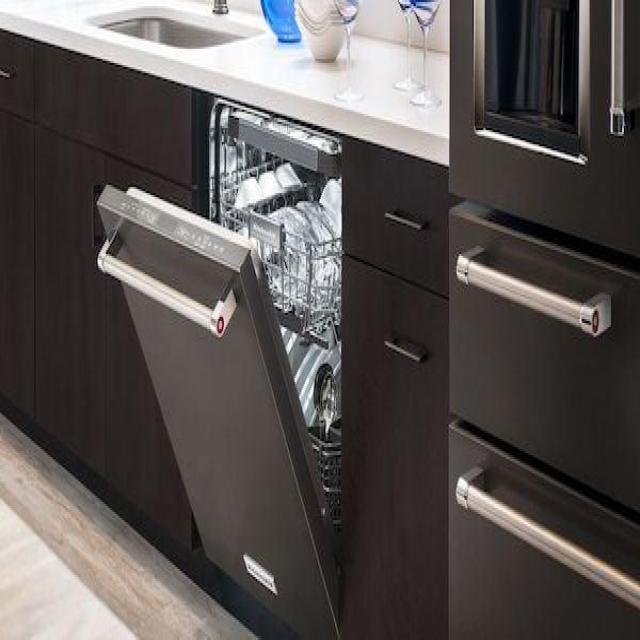dishwasher: (92, 102, 349, 640)
